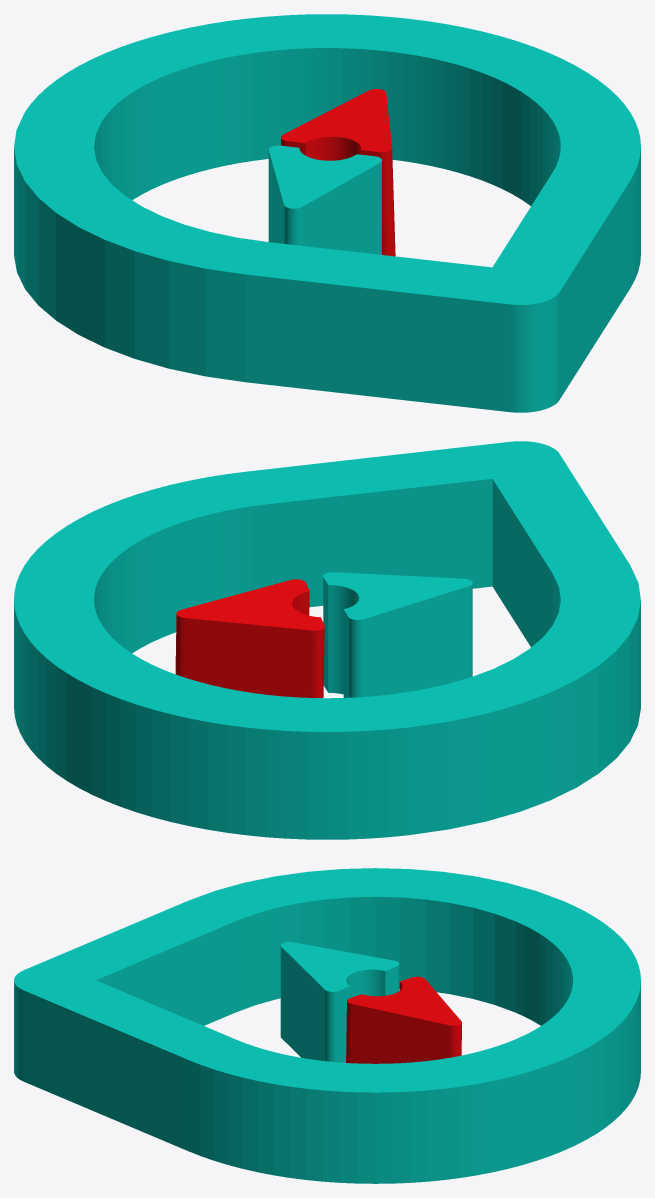
The model's file is marker-borondo2.gltf.
The picture shows the model from 3 angles, top to bottom: view 1: azimuth 30°, elevation 25°; view 2: azimuth 150°, elevation 25°; view 3: azimuth 270°, elevation 25°; orthographic projection. The views are drawn at different scales.
Parts seen in each view (by area): view 1: Curve.001, Curve.002, Curve.003; view 2: Curve.001, Curve.002, Curve.003; view 3: Curve.001, Curve.002, Curve.003.
Boxes of the visible parts, x1,y1,x2,y2 form: Curve.001: (14, 14, 640, 412); Curve.002: (268, 145, 381, 254); Curve.003: (281, 89, 395, 256); Curve.001: (14, 441, 640, 839); Curve.002: (323, 572, 472, 697); Curve.003: (175, 579, 324, 697); Curve.001: (14, 868, 640, 1183); Curve.002: (280, 942, 399, 1062); Curve.003: (346, 976, 461, 1063).
Bounding box in the file's own units: 0.2239 × 0.0448 × 0.2644.
